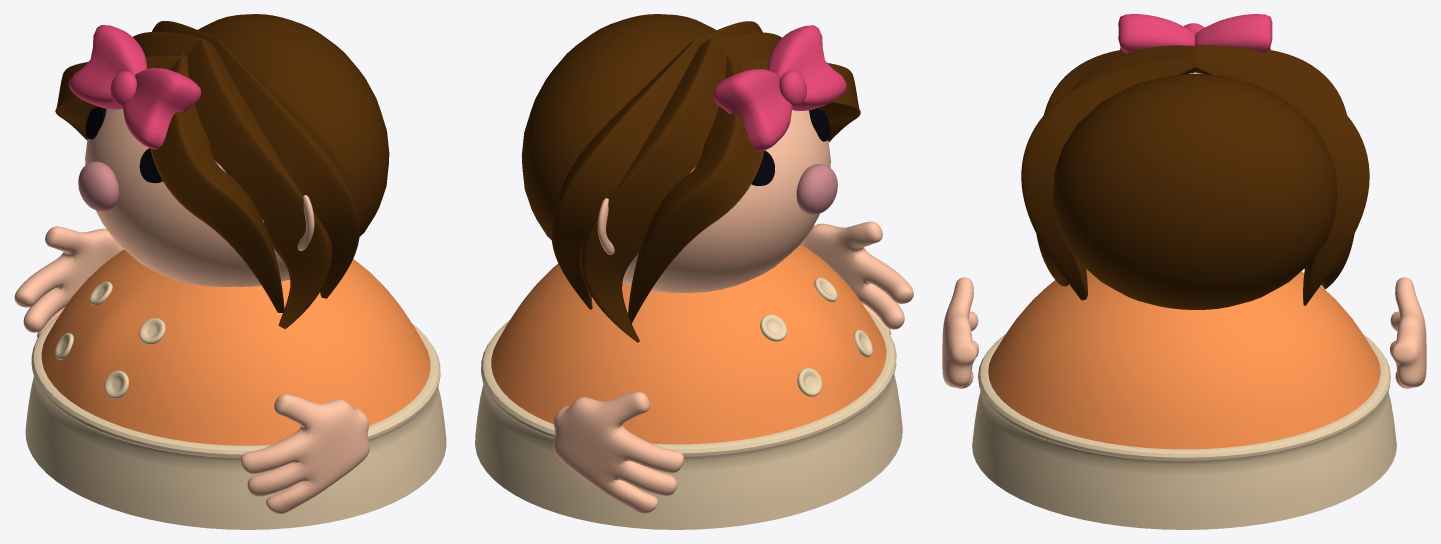
Rendered from NPC2.fbx.
3 views of the same model, side by side, from view 1: azimuth 30°, elevation 25°; view 2: azimuth 150°, elevation 25°; view 3: azimuth 270°, elevation 25° (orthographic). The views are drawn at different scales.
Parts seen in each view (by area): view 1: camiseta.001, falda, Pelo, Mano.001, Mechon2, cabeza.001, Mechon1, Mechon3, Lazo, nariz.001, Ojos.001, Boton1.003 (+3 smaller); view 2: camiseta.001, falda, Pelo, Mano.001, Mechon2, cabeza.001, Mechon1, Mechon3, Lazo, nariz.001, Ojos.001, Boton1.003 (+3 smaller); view 3: Pelo, camiseta.001, falda, Mechon3, Mano.001, Lazo, Mechon2, Mechon1.
Boxes of the visible parts, left/top/right/bottom form: camiseta.001: left=41, top=249, right=430, bottom=445; falda: left=25, top=280, right=446, bottom=529; Pelo: left=198, top=14, right=389, bottom=236; Mano.001: left=14, top=226, right=369, bottom=513; Mechon2: left=133, top=31, right=332, bottom=328; cabeza.001: left=85, top=108, right=289, bottom=286; Mechon1: left=55, top=54, right=284, bottom=312; Mechon3: left=152, top=21, right=359, bottom=298; Lazo: left=69, top=25, right=200, bottom=149; nariz.001: left=78, top=161, right=118, bottom=211; Ojos.001: left=85, top=106, right=162, bottom=183; Boton1.003: left=89, top=281, right=165, bottom=344; camiseta.001: left=491, top=244, right=886, bottom=444; falda: left=475, top=310, right=902, bottom=529; Pelo: left=521, top=14, right=716, bottom=240; Mano.001: left=553, top=221, right=913, bottom=513; Mechon2: left=579, top=32, right=781, bottom=342; cabeza.001: left=622, top=110, right=830, bottom=293; Mechon1: left=628, top=55, right=860, bottom=323; Mechon3: left=551, top=21, right=762, bottom=309; Lazo: left=712, top=25, right=846, bottom=151; nariz.001: left=796, top=164, right=837, bottom=214; Ojos.001: left=751, top=108, right=829, bottom=185; Boton1.003: left=760, top=277, right=837, bottom=341; Pelo: left=1052, top=74, right=1337, bottom=309; camiseta.001: left=988, top=269, right=1380, bottom=449; falda: left=972, top=334, right=1396, bottom=529; Mechon3: left=1021, top=57, right=1369, bottom=305; Mano.001: left=942, top=277, right=1426, bottom=388; Lazo: left=1118, top=14, right=1272, bottom=53; Mechon2: left=1036, top=45, right=1354, bottom=289; Mechon1: left=1044, top=50, right=1346, bottom=114.
Bounding box in the file's own units: 72.97 × 78.78 × 88.79.
